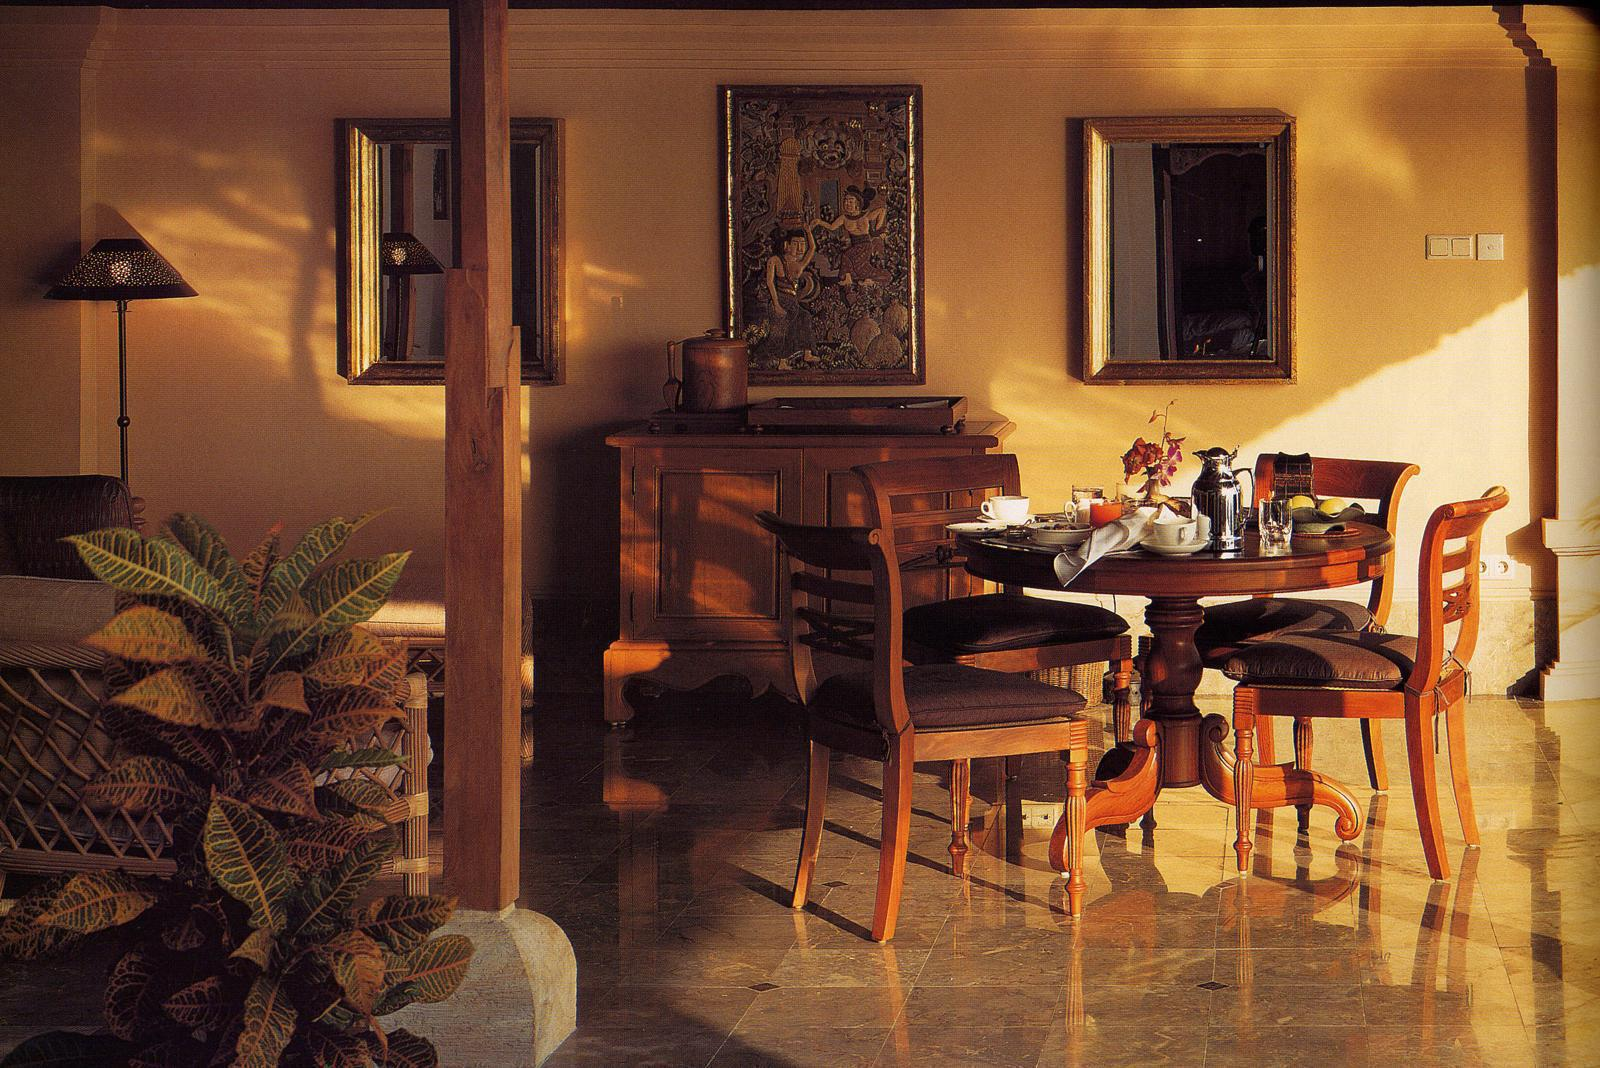Matera: (24, 530, 447, 1063)
